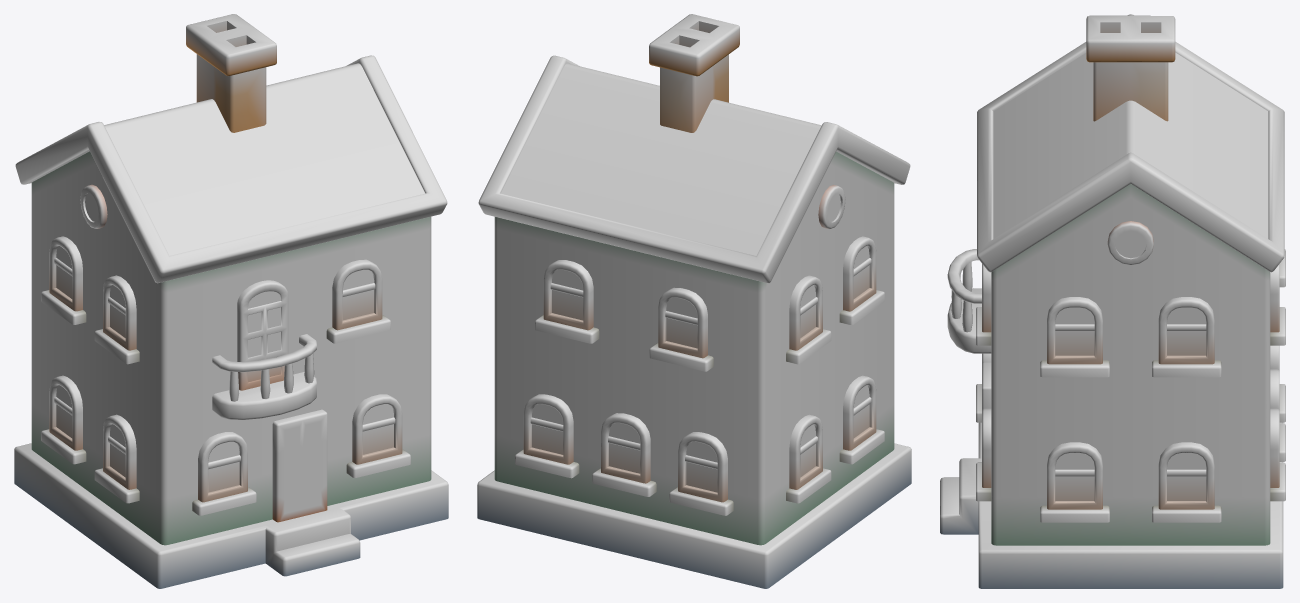
File: NF_Bld_House 22.fbx
3 renders of one model, left to right at view 1: azimuth 30°, elevation 25°; view 2: azimuth 150°, elevation 25°; view 3: azimuth 270°, elevation 25°, orthographic. The views are drawn at different scales.
Parts seen in each view (by area): view 1: House_22; view 2: House_22; view 3: House_22.
Part boxes in pixels (box(x1,y1,x2,y2)): House_22: box(14, 14, 448, 588); House_22: box(477, 14, 911, 588); House_22: box(940, 14, 1285, 588).
Bounding box in the file's own units: 7.66 × 11.55 × 7.43.
